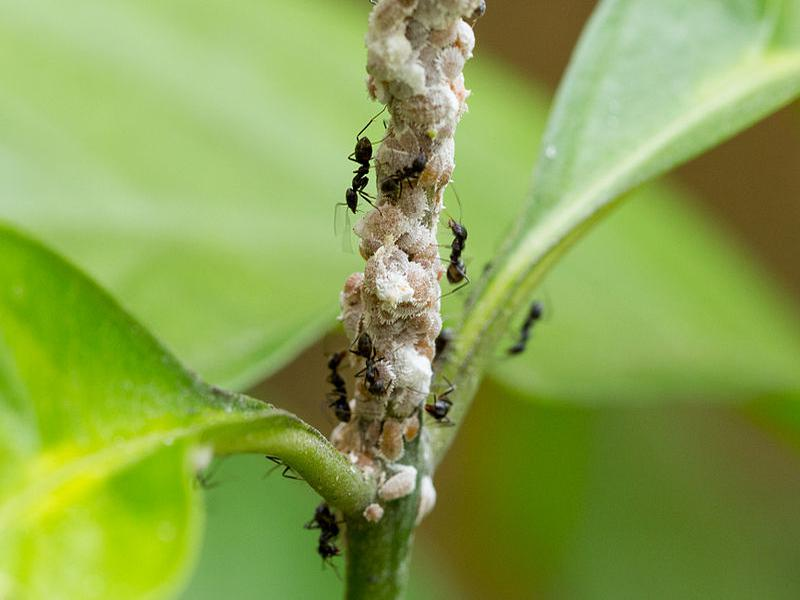Mealy_bug: (337, 7, 456, 523)
